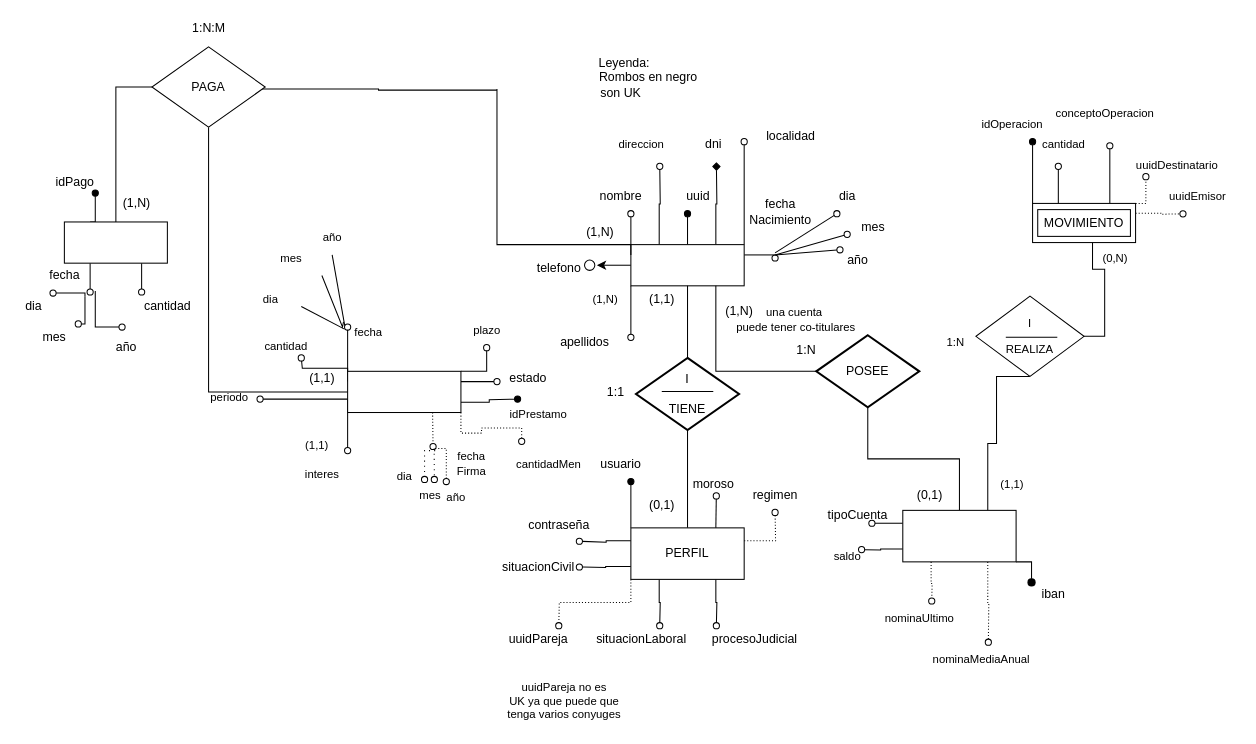
Image size: 1256x744. Some labels were removed from this diagram. The box of each missing label's shape, as (x1, y1, x2, y2) in pixels:
CLIENTE: (630, 244, 744, 286)
CUENTA: (902, 509, 1016, 562)
PAGO: (63, 221, 167, 263)
PRESTAMO: (347, 370, 461, 413)
